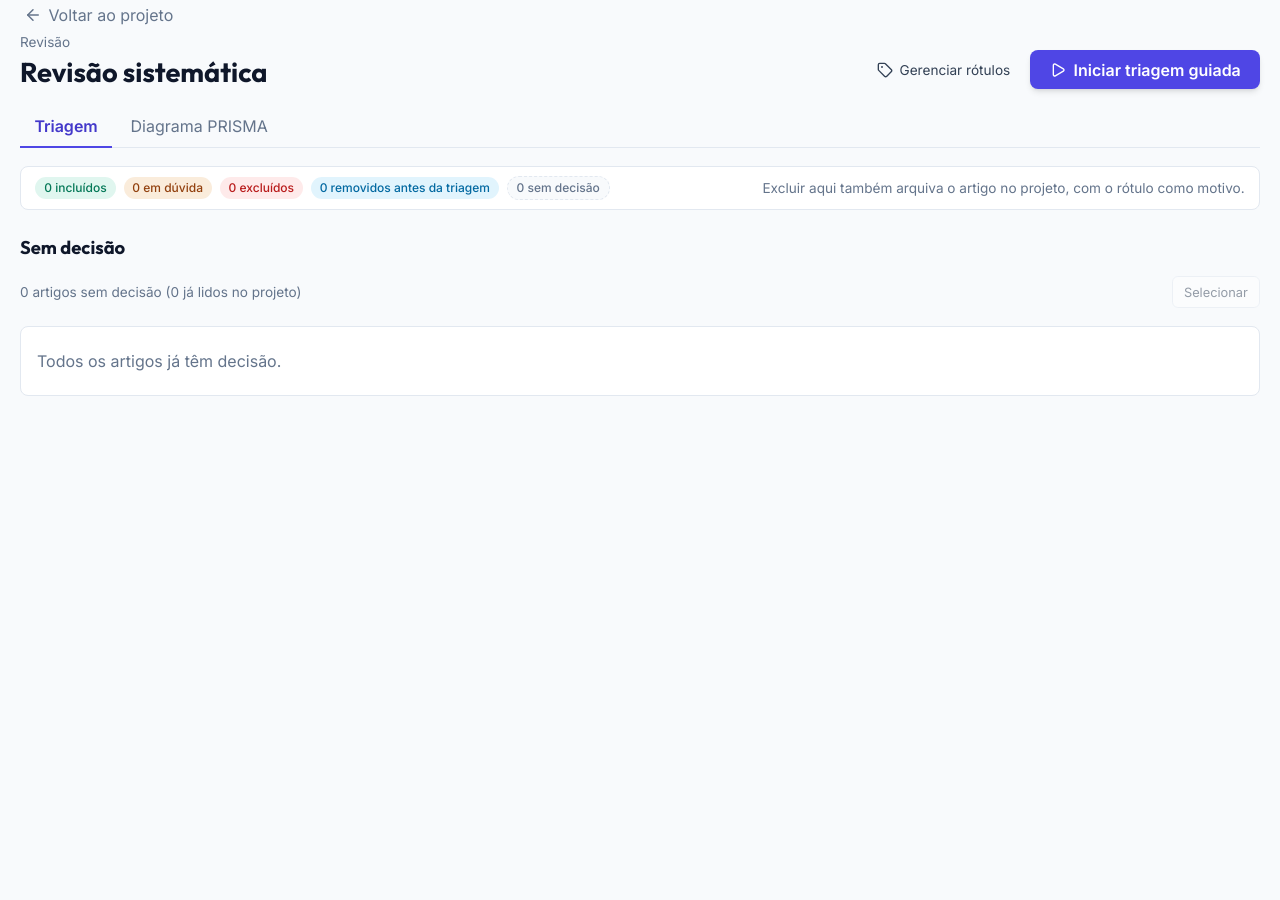
Test: ManageLabelsModal (#49) › shows a refusal from the database in the window
Click the button "Gerenciar rótulos" at (944, 70), box [865,50,1022,89]
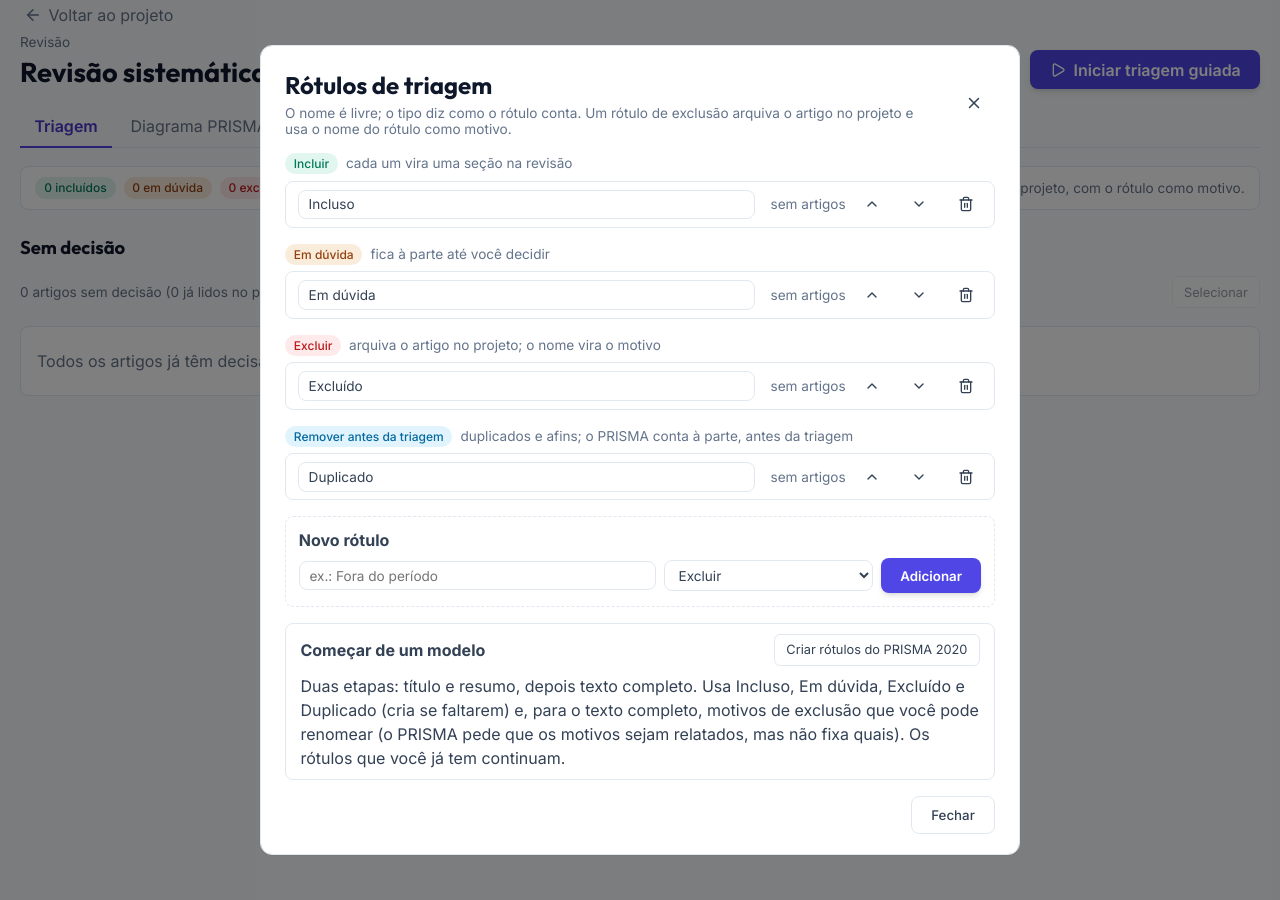
Type "X" into the field named "Nome do novo rótulo" at (477, 576), box [299,561,656,590]
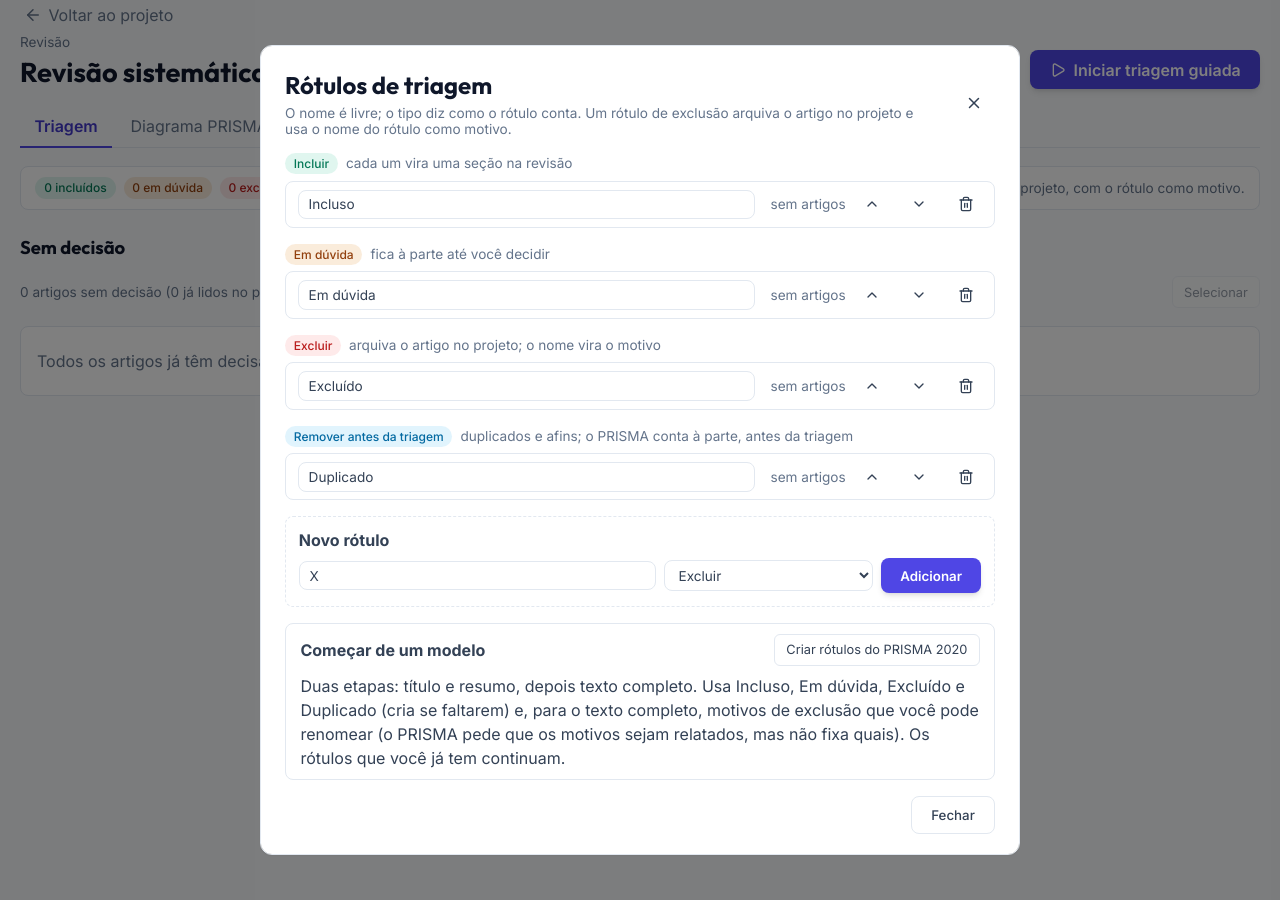
Click the button "Adicionar" at (931, 576), box [881,558,981,594]
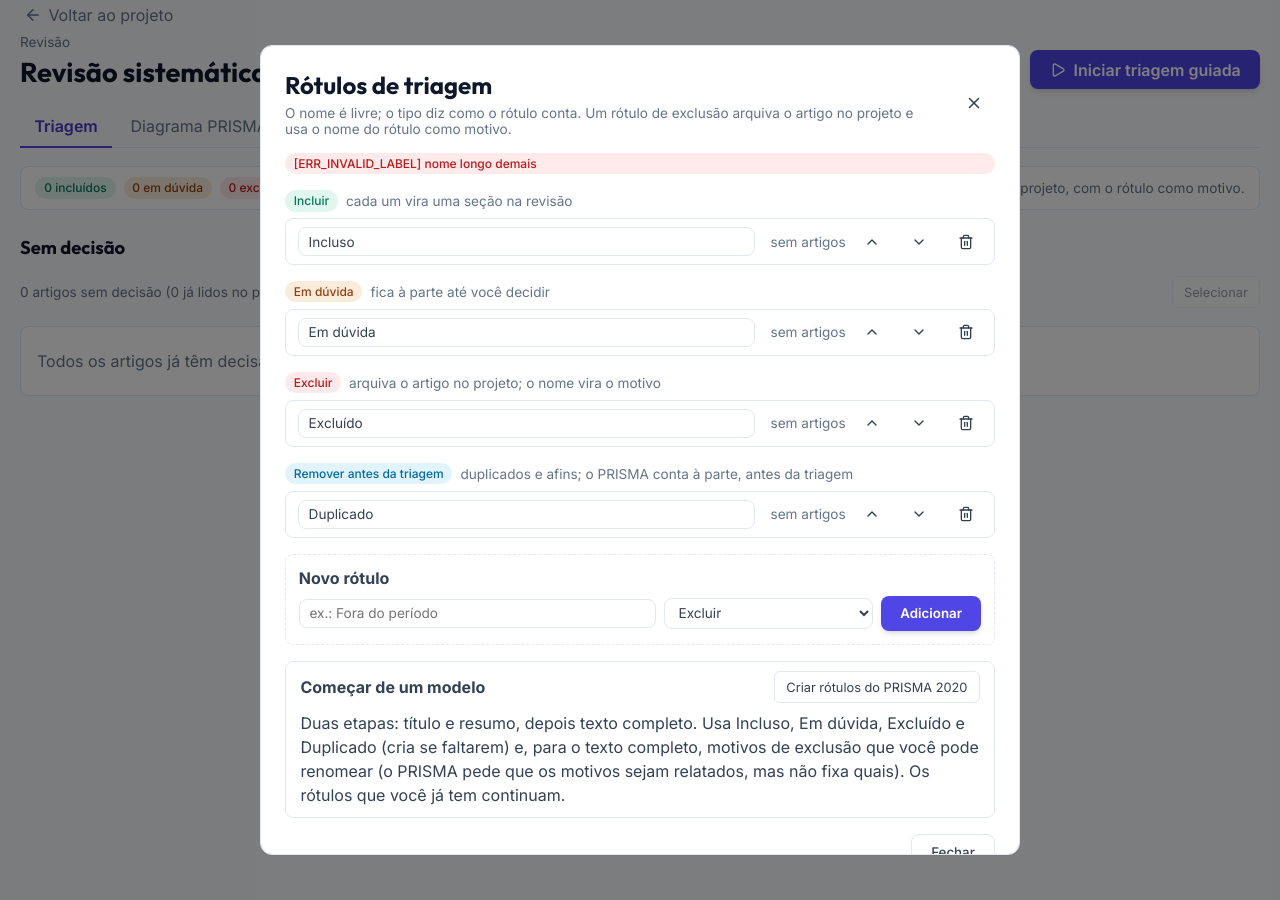
Check: the message shows "nome longo demais", box [294,156,537,171]
